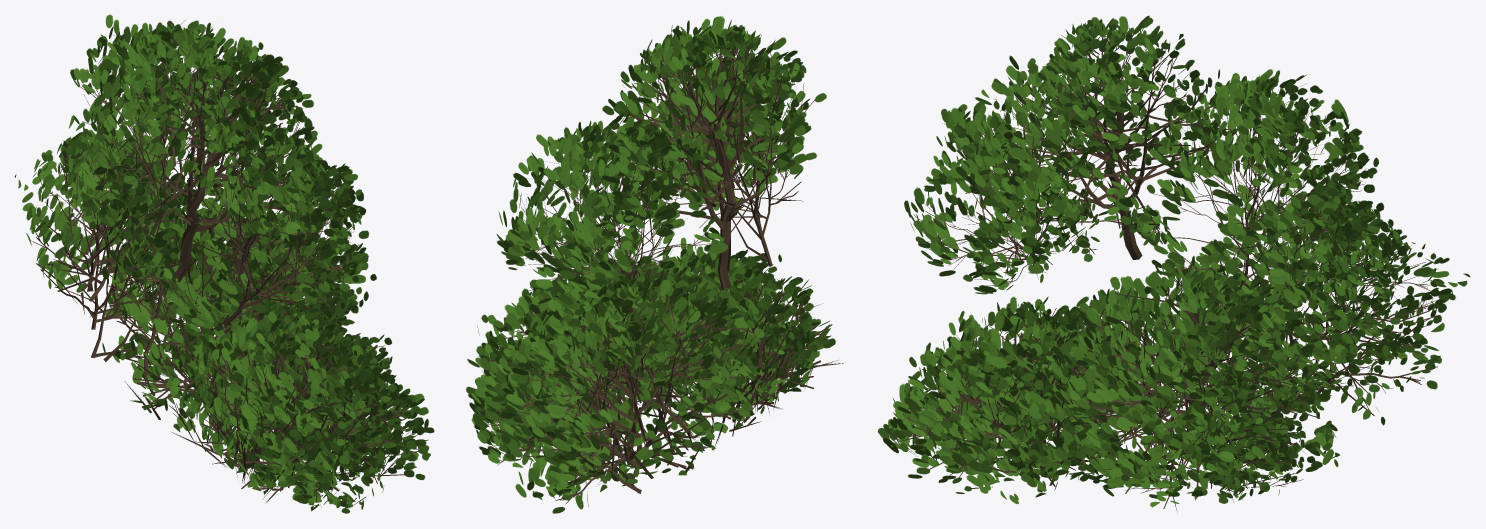
3 renders of one model, left to right at view 1: azimuth 30°, elevation 25°; view 2: azimuth 150°, elevation 25°; view 3: azimuth 270°, elevation 25°, orthographic.
Parts seen in each view (by area): view 1: oak 01.001_trunk_Mat.001_0.182; view 2: oak 01.001_trunk_Mat.001_0.182; view 3: oak 01.001_trunk_Mat.001_0.182.
Part boxes in pixels (x1,y1,x2,y2): oak 01.001_trunk_Mat.001_0.182: (15,14,434,513); oak 01.001_trunk_Mat.001_0.182: (466,16,843,513); oak 01.001_trunk_Mat.001_0.182: (878,15,1470,511).
Size of the model in its own units: 2.49 by 4.29 by 5.38.
2 materials, 1 textured.
